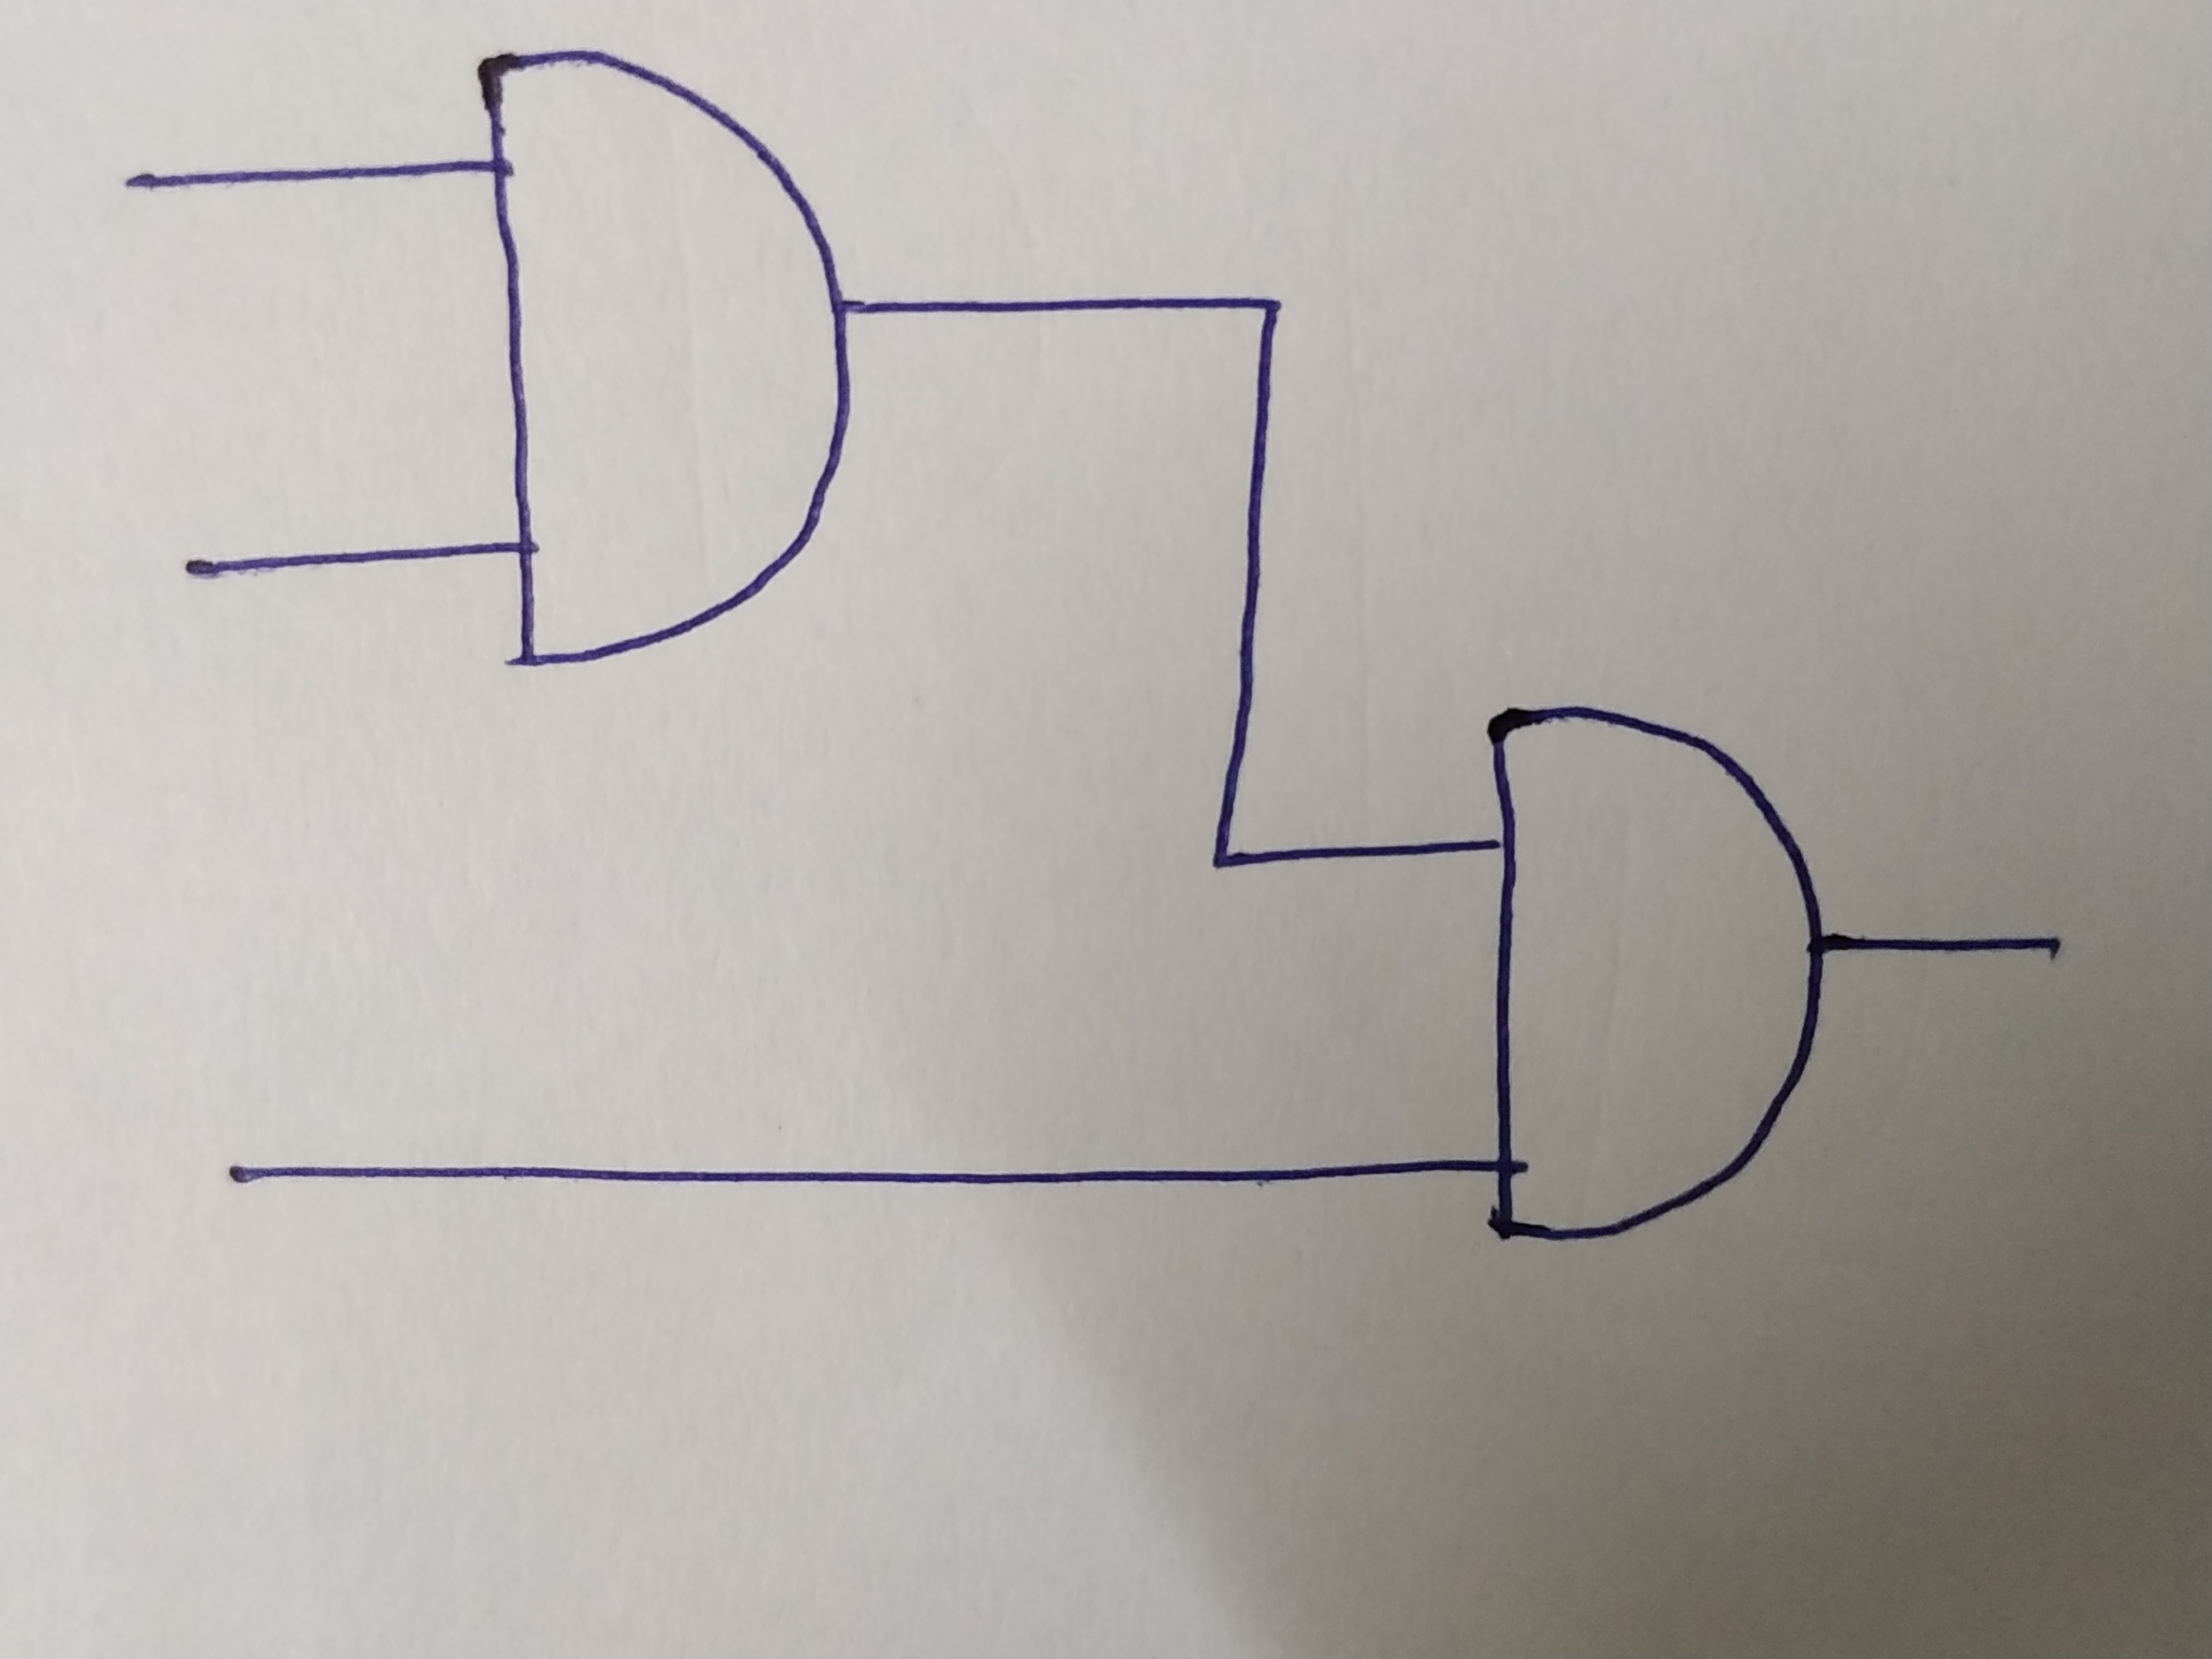and: (479, 54, 846, 662), (1489, 701, 1820, 1239)
